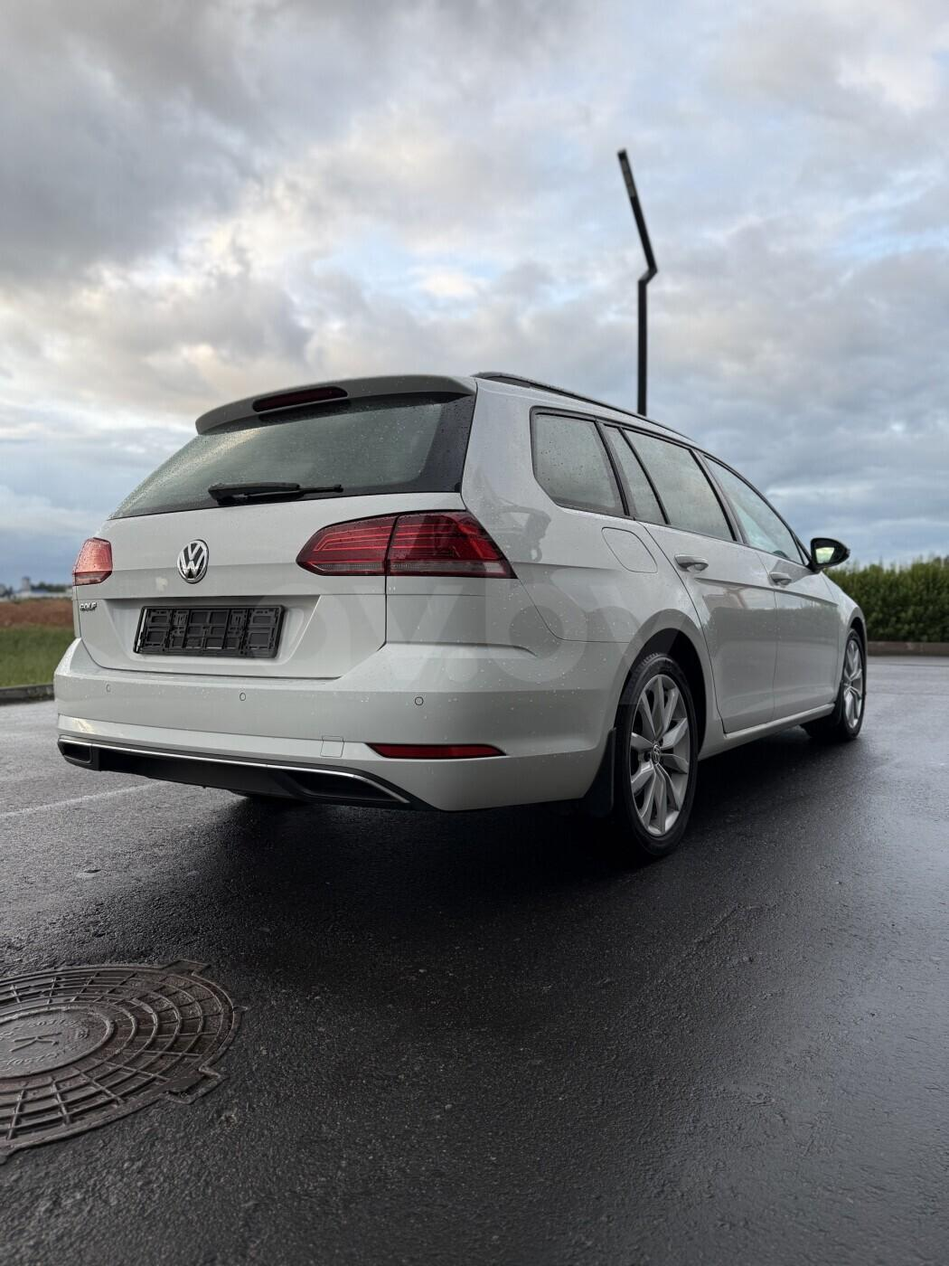Golf_2017-2021: (50, 367, 878, 866)
